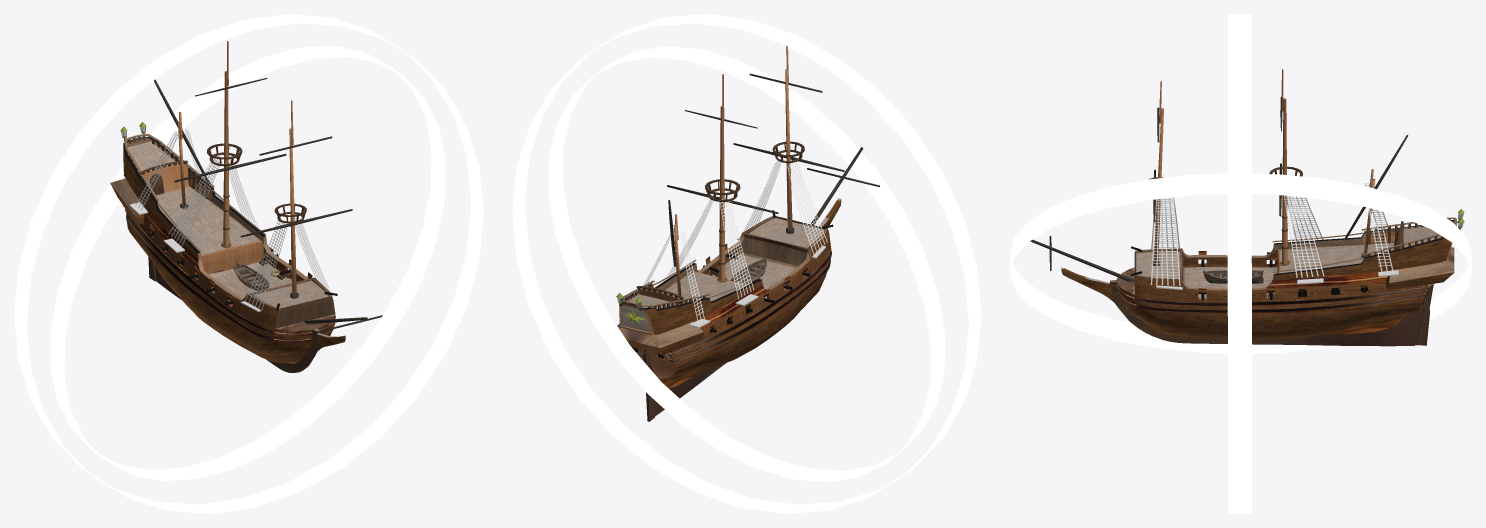
The model's file is hero_ship.glb.
3 renders of one model, left to right at view 1: azimuth 30°, elevation 25°; view 2: azimuth 150°, elevation 25°; view 3: azimuth 270°, elevation 25°, orthographic. The views are drawn at different scales.
Visible parts, largest first — view 1: Plane, anneau_1, anneau_2, cordageMisaine, cordageGrandMat, Cylinder.001, Cylinder, Plane.003, Plane.002, Plane.005, Cylinder.014, chaloupe (+1 smaller); view 2: Plane, anneau_2, anneau_1, cordageMisaine, cordageGrandMat, Cylinder.001, Cylinder, Plane.003, Plane.002, cordageArtimont, Cylinder.014; view 3: Plane, anneau_2, anneau_1, cordageMisaine, cordageGrandMat, Plane.003, Plane.002, Cylinder, Cylinder.001, cordageArtimont, Cylinder.014.
Boxes of the visible parts, <box> form: Plane: <box>110,134,345,372</box>; anneau_1: <box>14,14,483,513</box>; anneau_2: <box>50,45,445,480</box>; cordageMisaine: <box>245,217,331,310</box>; cordageGrandMat: <box>168,156,258,246</box>; Cylinder.001: <box>240,100,352,294</box>; Cylinder: <box>223,41,229,245</box>; Plane.003: <box>125,209,335,337</box>; Plane.002: <box>126,216,335,343</box>; Plane.005: <box>128,140,178,176</box>; Cylinder.014: <box>154,79,210,205</box>; chaloupe: <box>232,261,269,291</box>; Plane: <box>617,198,841,416</box>; anneau_2: <box>548,46,945,482</box>; anneau_1: <box>512,14,981,513</box>; cordageMisaine: <box>743,158,827,254</box>; cordageGrandMat: <box>664,195,754,299</box>; Cylinder.001: <box>733,45,844,229</box>; Cylinder: <box>719,74,725,280</box>; Plane.003: <box>667,250,831,356</box>; Plane.002: <box>669,259,830,362</box>; cordageArtimont: <box>643,229,704,323</box>; Cylinder.014: <box>668,200,681,297</box>; Plane: <box>1061,217,1457,346</box>; anneau_2: <box>1010,173,1471,353</box>; anneau_1: <box>1227,14,1252,513</box>; cordageMisaine: <box>1150,197,1180,286</box>; cordageGrandMat: <box>1284,195,1324,277</box>; Plane.003: <box>1116,284,1429,306</box>; Plane.002: <box>1119,292,1425,313</box>; Cylinder: <box>1281,69,1287,263</box>; Cylinder.001: <box>1153,81,1163,262</box>; cordageArtimont: <box>1365,183,1393,273</box>; Cylinder.014: <box>1345,135,1408,255</box>.
Size of what is drawn, in the model's own units: 34.79 by 34.79 by 32.06.
16 materials, 7 textured.
